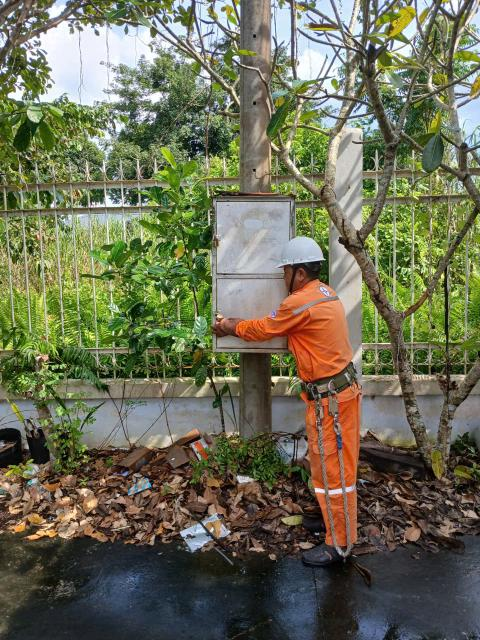gloves: (205, 312, 248, 335)
harness: (292, 358, 368, 409)
helmet: (272, 238, 338, 275)
shoes: (289, 532, 362, 572), (295, 509, 339, 539)
